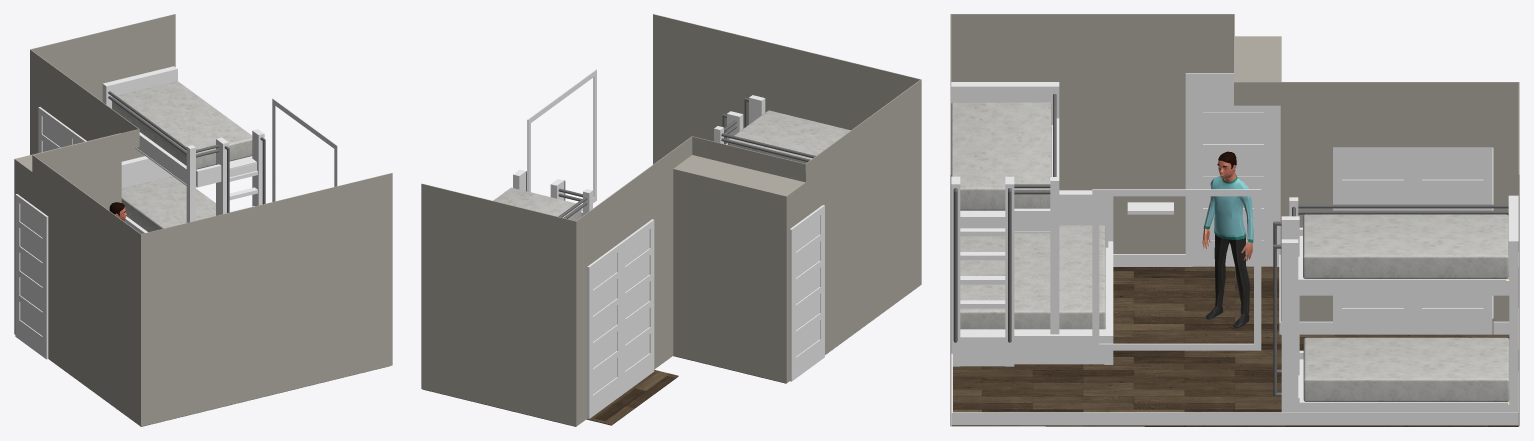
File: bunks-4.glb
3 views of the same model, side by side, from view 1: azimuth 30°, elevation 25°; view 2: azimuth 150°, elevation 25°; view 3: azimuth 270°, elevation 25° (orthographic). The views are drawn at different scales.
Parts seen in each view (by area): view 1: innerWall.001, innerWall, innerWall.002, twin-mattress, Cube.004, twin-mattress.001, Cube.006, twin-molding-head-front, Plane, queen-molding-head-front, bunk-leg-head-right, twin-rail-right (+4 smaller); view 2: innerWall, innerWall.002, innerWall.001, Cube.006, Cube.004, twin-mattress (×2), floor, Plane; view 3: innerWall, floor, twin-mattress (×2), Cube.006, twin-mattress.001, queen-queen, floor.001, Cube.004, Plane, Human 2, ladder-leg-left (×2), Plane.002 (+23 smaller).
Boxes of the visible parts, <box> form: innerWall.001: <box>141,173,392,426</box>; innerWall: <box>14,49,141,426</box>; innerWall.002: <box>31,14,175,161</box>; twin-mattress: <box>112,81,252,169</box>; Cube.004: <box>15,194,48,359</box>; twin-mattress.001: <box>121,176,215,232</box>; Cube.006: <box>38,107,86,152</box>; twin-molding-head-front: <box>105,68,177,108</box>; Plane: <box>272,98,337,201</box>; queen-molding-head-front: <box>121,159,172,188</box>; bunk-leg-head-right: <box>186,145,195,222</box>; twin-rail-right: <box>137,137,186,183</box>; innerWall: <box>575,79,921,426</box>; innerWall.002: <box>421,183,575,426</box>; innerWall.001: <box>653,14,920,164</box>; Cube.006: <box>587,219,654,418</box>; Cube.004: <box>789,205,824,381</box>; twin-mattress (×2): <box>493,110,850,220</box>; floor: <box>422,356,786,426</box>; Plane: <box>527,69,596,210</box>; innerWall: <box>950,14,1519,321</box>; floor: <box>951,266,1518,426</box>; twin-mattress (×2): <box>951,102,1508,278</box>; Cube.006: <box>1333,147,1492,334</box>; twin-mattress.001: <box>1303,337,1509,401</box>; queen-queen: <box>960,225,1105,329</box>; floor.001: <box>951,254,1518,425</box>; Cube.004: <box>1192,80,1273,266</box>; Plane: <box>1092,189,1261,350</box>; Human 2: <box>1202,151,1253,327</box>; ladder-leg-left (×2): <box>951,180,1290,412</box>; Plane.002: <box>1185,73,1280,263</box>.
Bounding box in the file's own units: 3.78 × 2.75 × 5.62.
14 materials, 6 textured.
